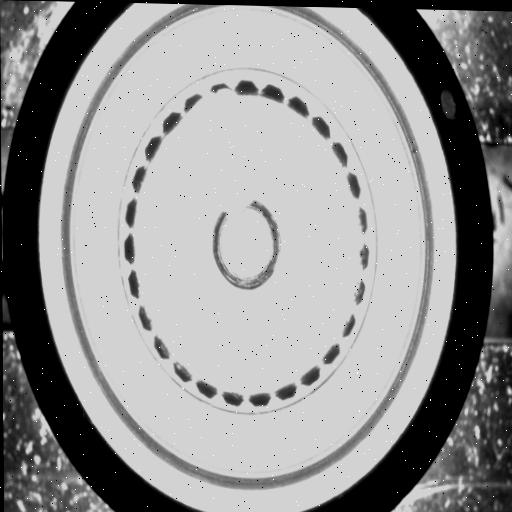gear: (116, 69, 376, 416)
